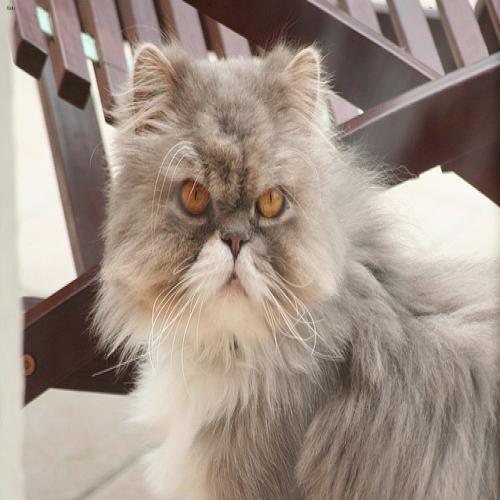persian: (109, 36, 335, 374)
